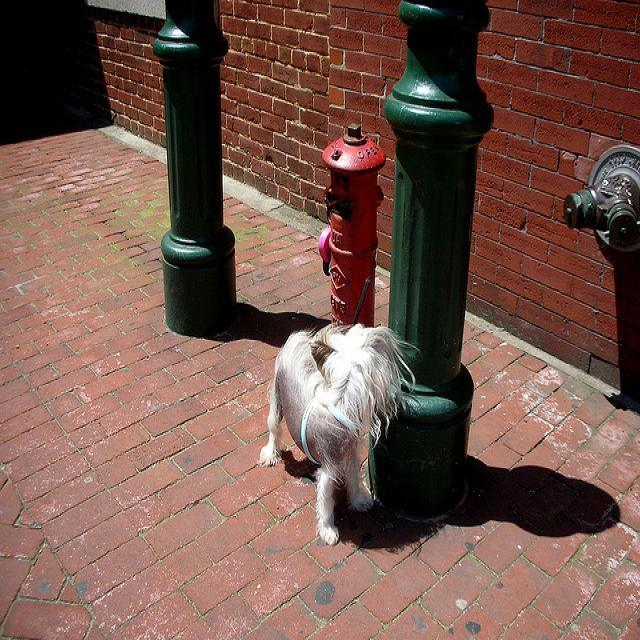fire_hydrant: (562, 144, 640, 412), (318, 120, 386, 328)
